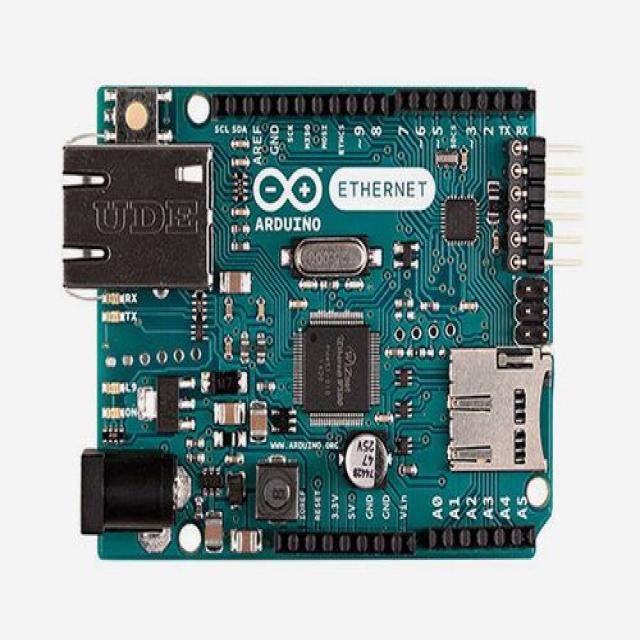Arduino: (56, 76, 587, 579)
